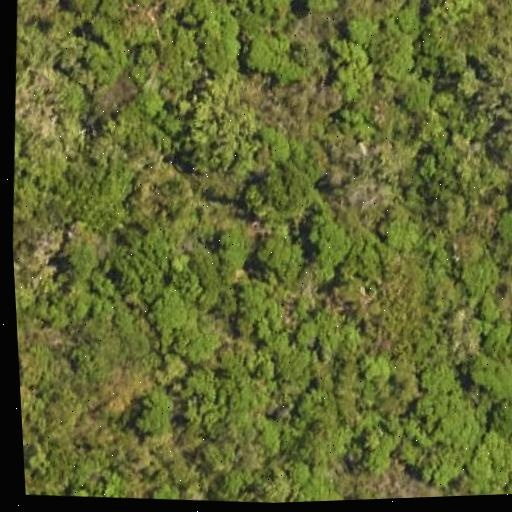tree-top: (179, 81, 274, 179), (49, 153, 141, 234), (320, 30, 388, 106), (422, 381, 495, 451), (299, 200, 366, 276), (223, 271, 295, 341), (185, 16, 250, 83), (449, 239, 511, 308), (249, 218, 316, 281), (142, 280, 206, 342), (298, 414, 362, 474), (240, 23, 303, 82), (55, 225, 114, 286), (168, 310, 232, 366), (414, 349, 475, 407), (128, 384, 182, 441), (464, 345, 512, 402), (372, 203, 424, 255), (211, 219, 259, 270), (487, 179, 512, 258)
